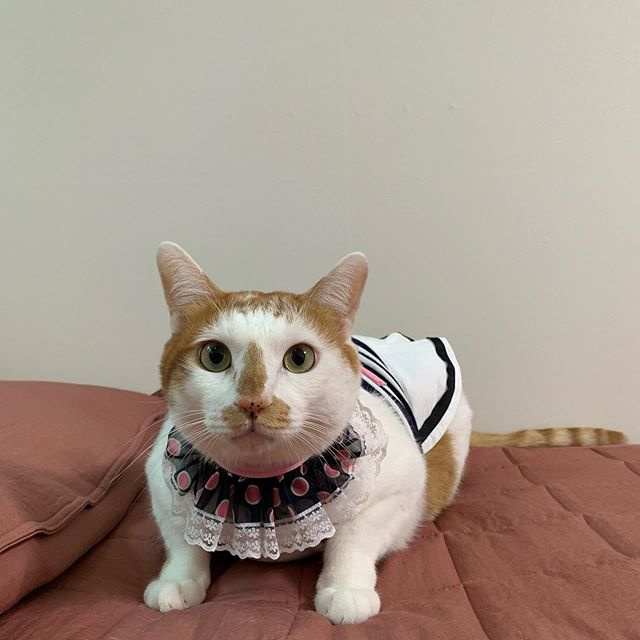cat: (143, 237, 372, 469)
